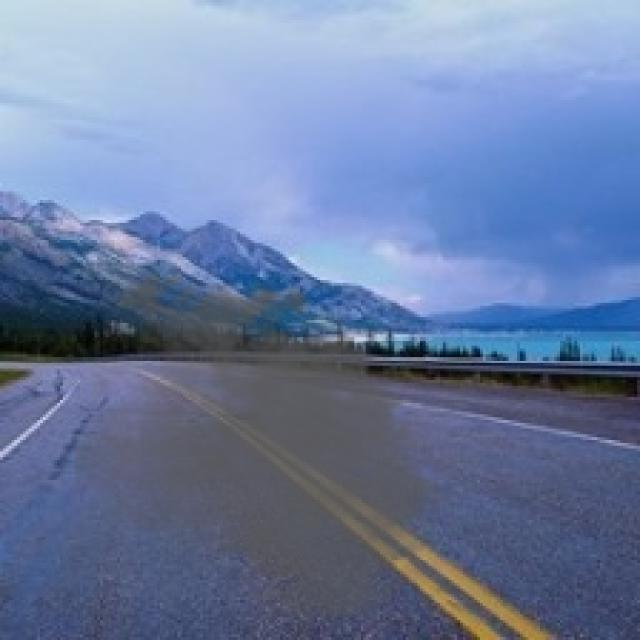smoke: (74, 260, 460, 629)
